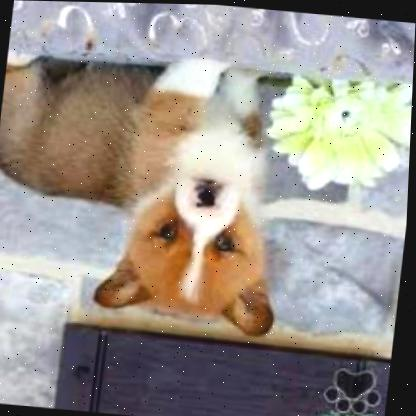dog: (0, 47, 308, 341)
